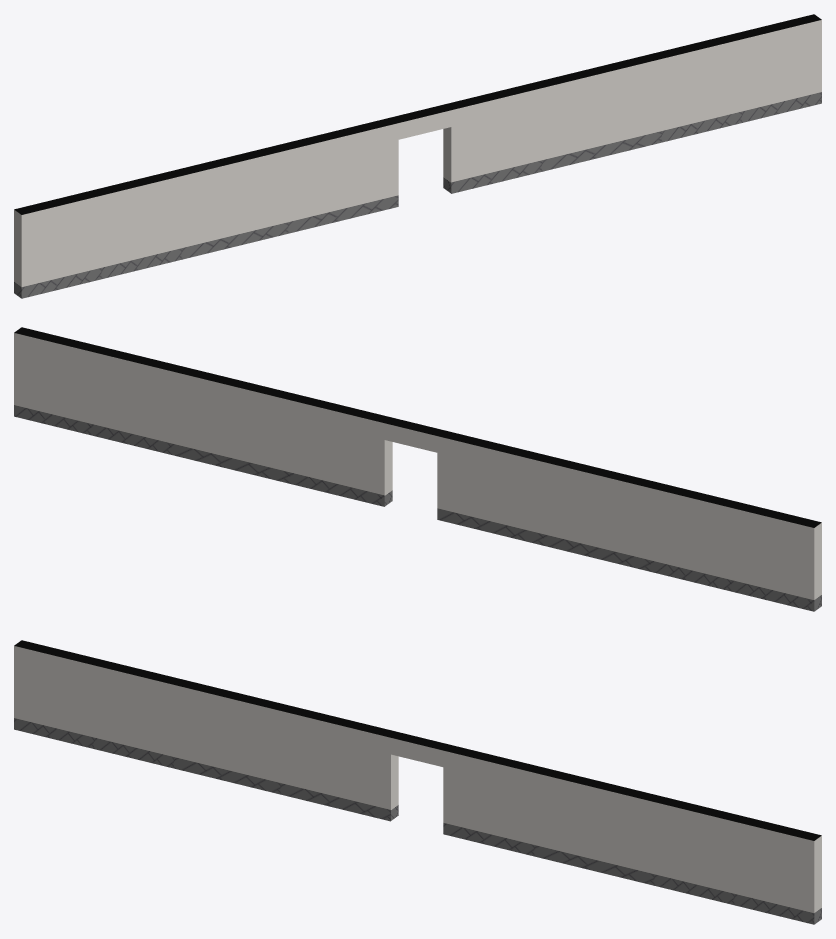
File: lvl 2 long wall door.fbx
3 views of the same model, one above another, from view 1: azimuth 30°, elevation 25°; view 2: azimuth 150°, elevation 25°; view 3: azimuth 330°, elevation 25° (orthographic).
Visible parts, largest first — view 1: lvl 2 long door; view 2: lvl 2 long door; view 3: lvl 2 long door.
Boxes of the visible parts, x1,y1,x2,y2 form: lvl 2 long door: (14, 14, 821, 298); lvl 2 long door: (14, 327, 821, 611); lvl 2 long door: (14, 640, 821, 924).
Bounding box in the file's own units: 60 × 6 × 1.
